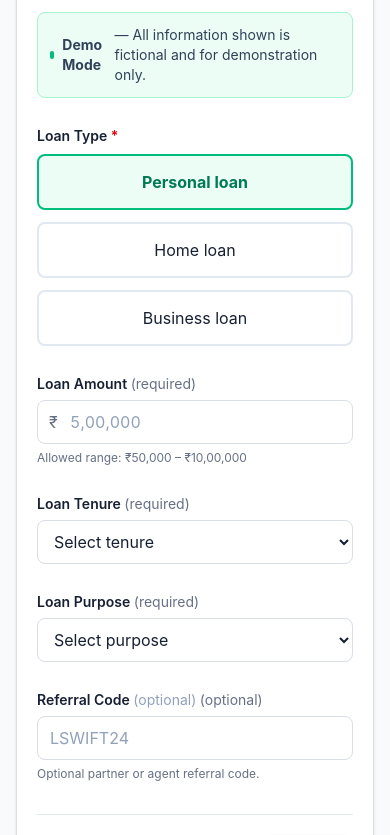
Step 1 - loan type and amount › rejects an amount below the floor
This screenshot has width=390, height=835.
(page scrolled)
Step 1. Type "10000" into the field with id "loanAmount" → point(195, 422), box [37, 400, 353, 444]
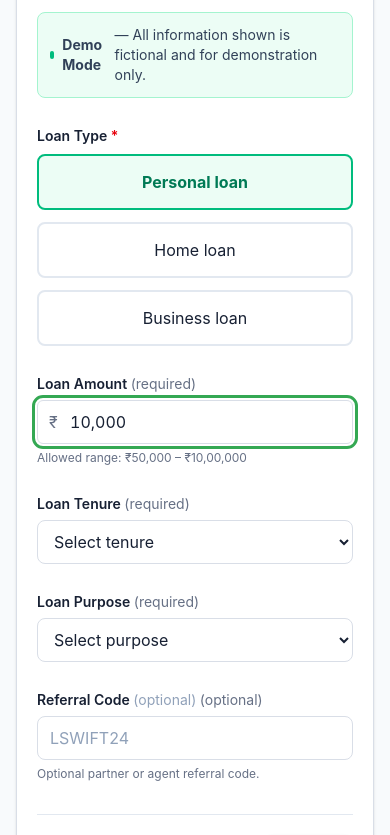
Step 2. Leave the field with id "loanAmount", box [37, 400, 353, 444]
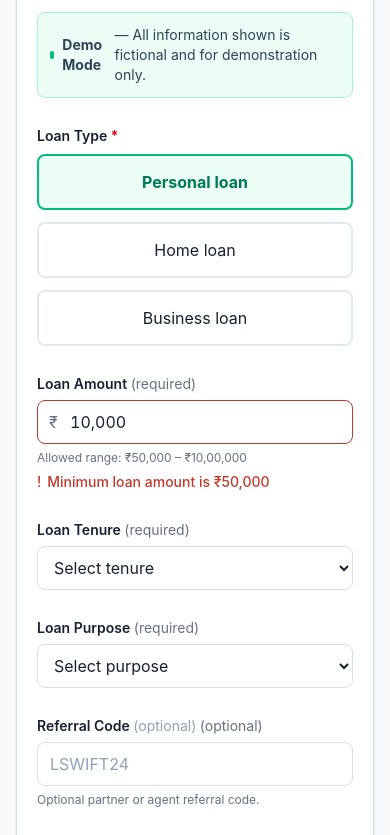
Now the text "Minimum loan amount is ₹50,000" is shown, box [47, 472, 270, 492]
